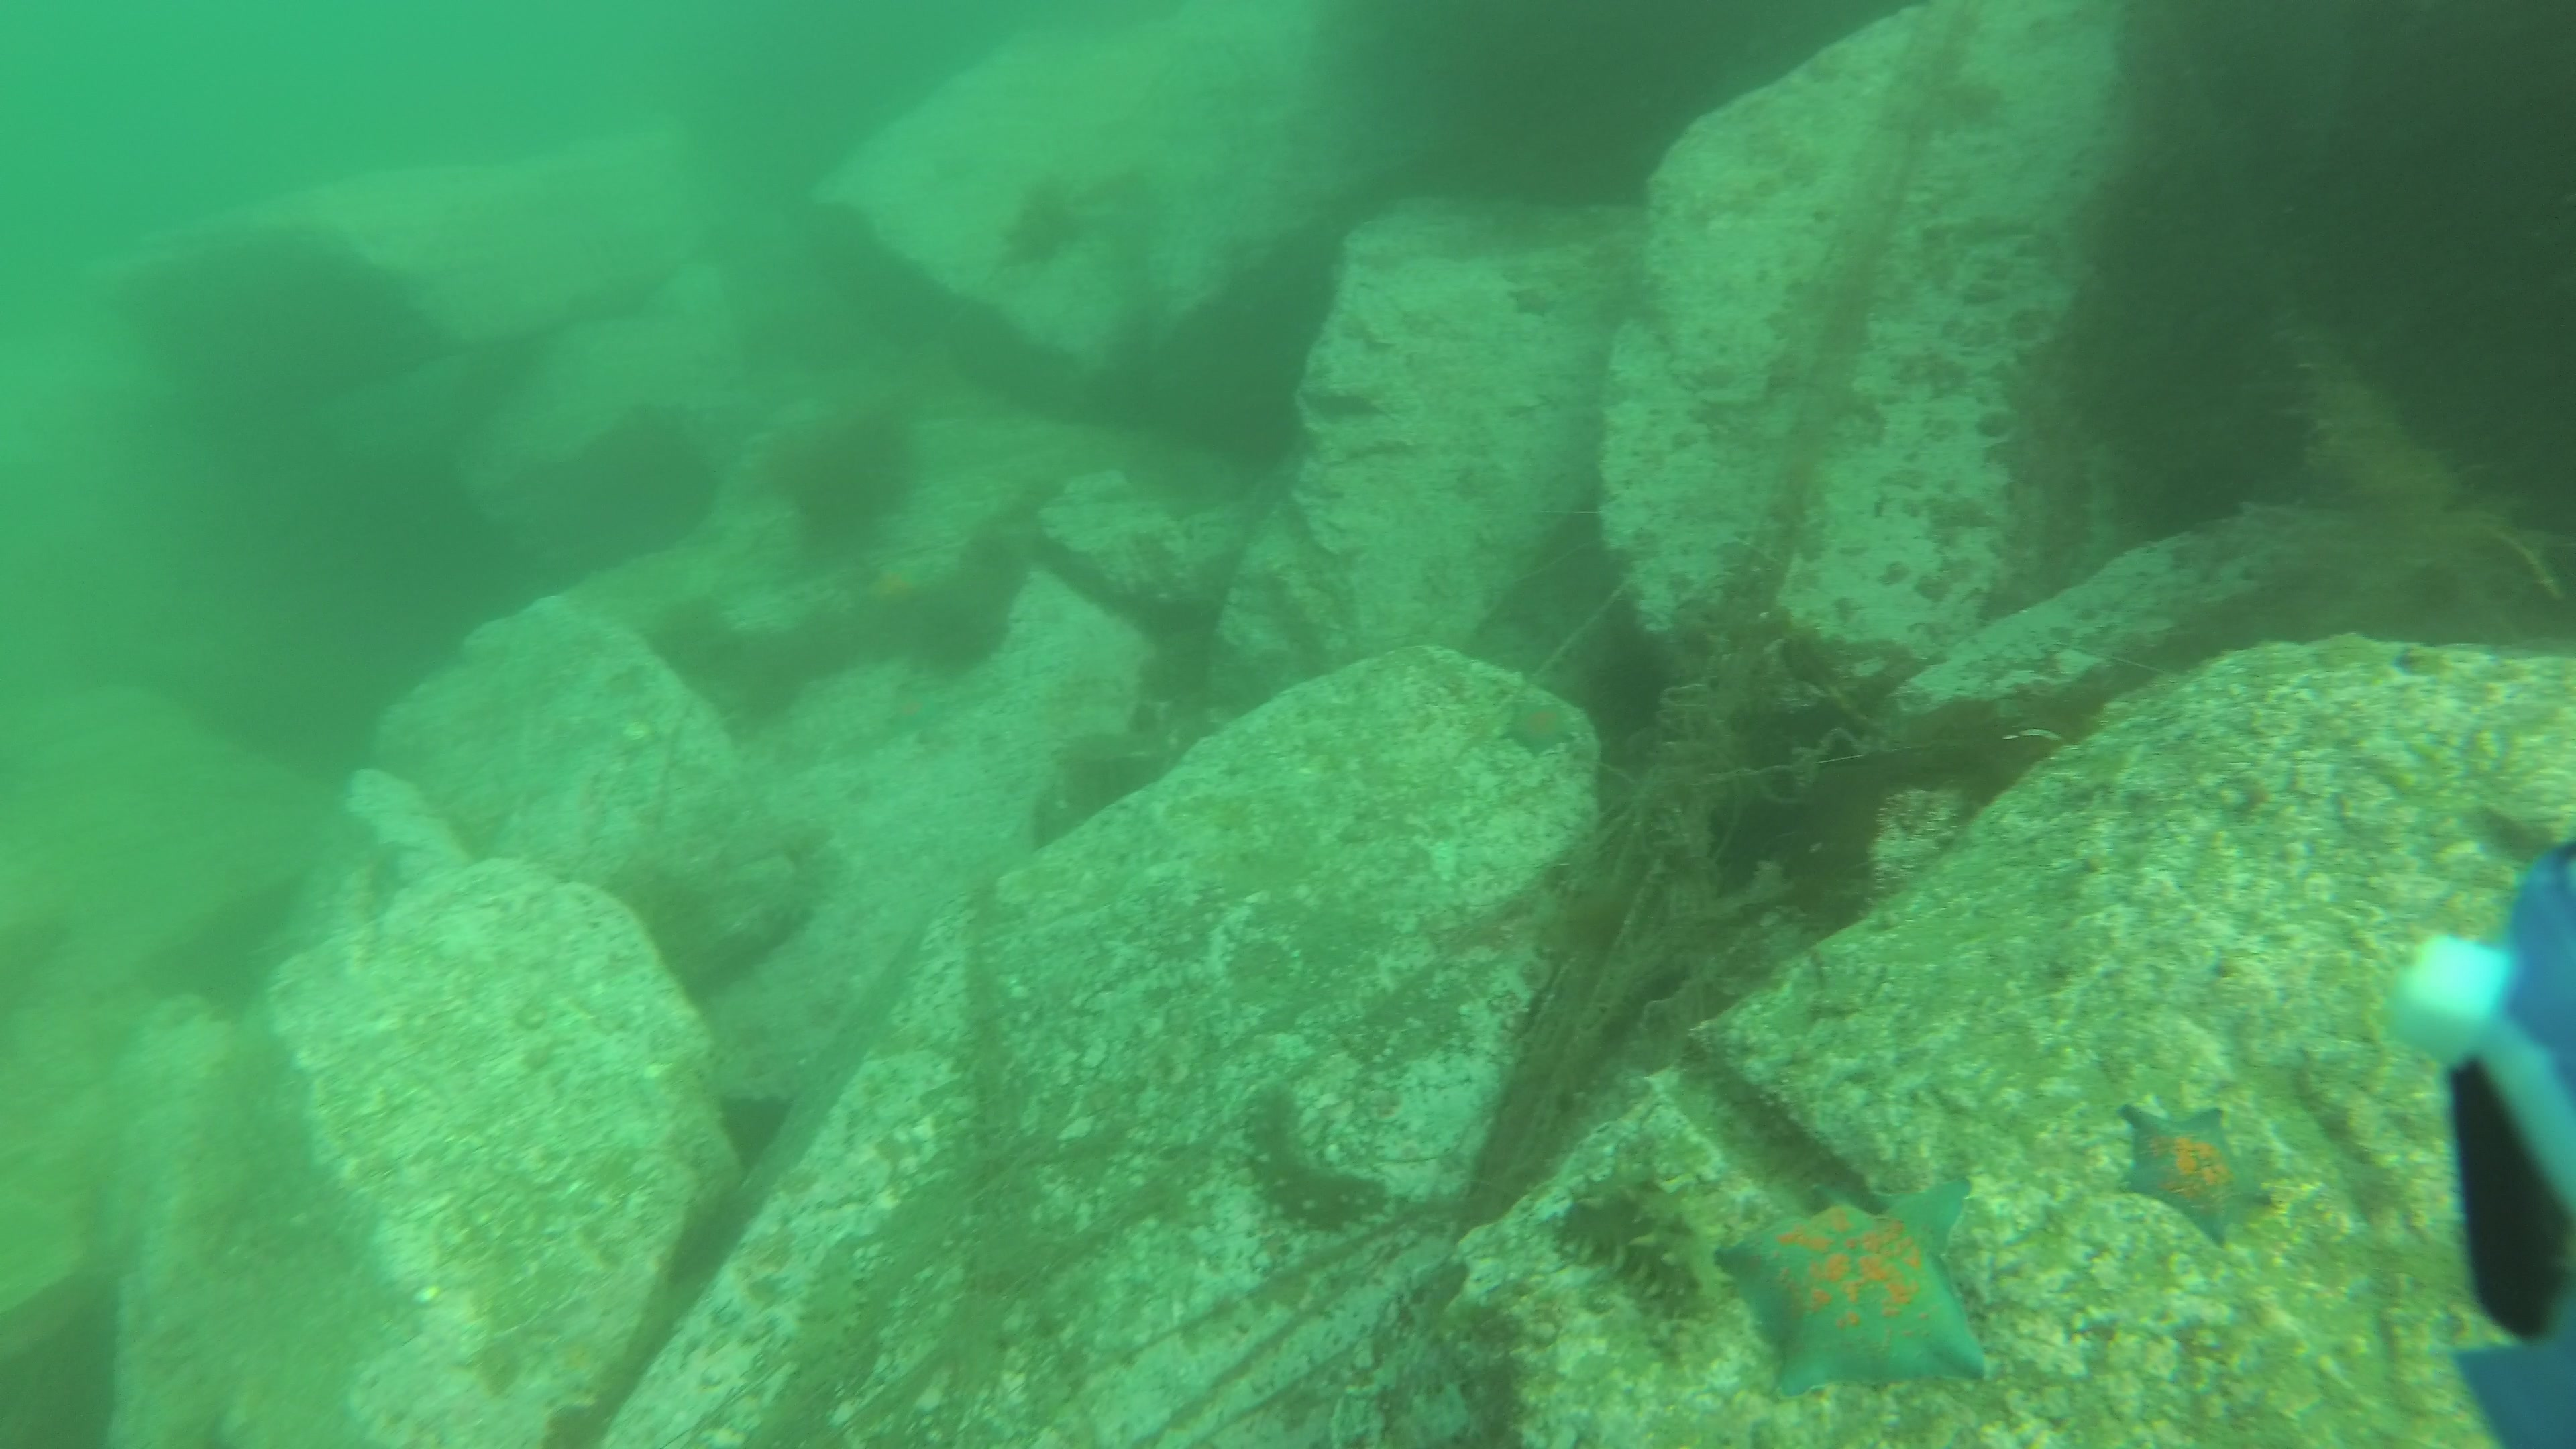holothurian: (1555, 1152, 1737, 1307), (1240, 1085, 1391, 1235), (789, 1235, 869, 1392)
starfish: (1711, 1175, 1996, 1405), (2114, 1097, 2279, 1249), (1499, 694, 1580, 763), (994, 203, 1070, 272), (853, 557, 936, 617), (1502, 283, 1560, 320)
